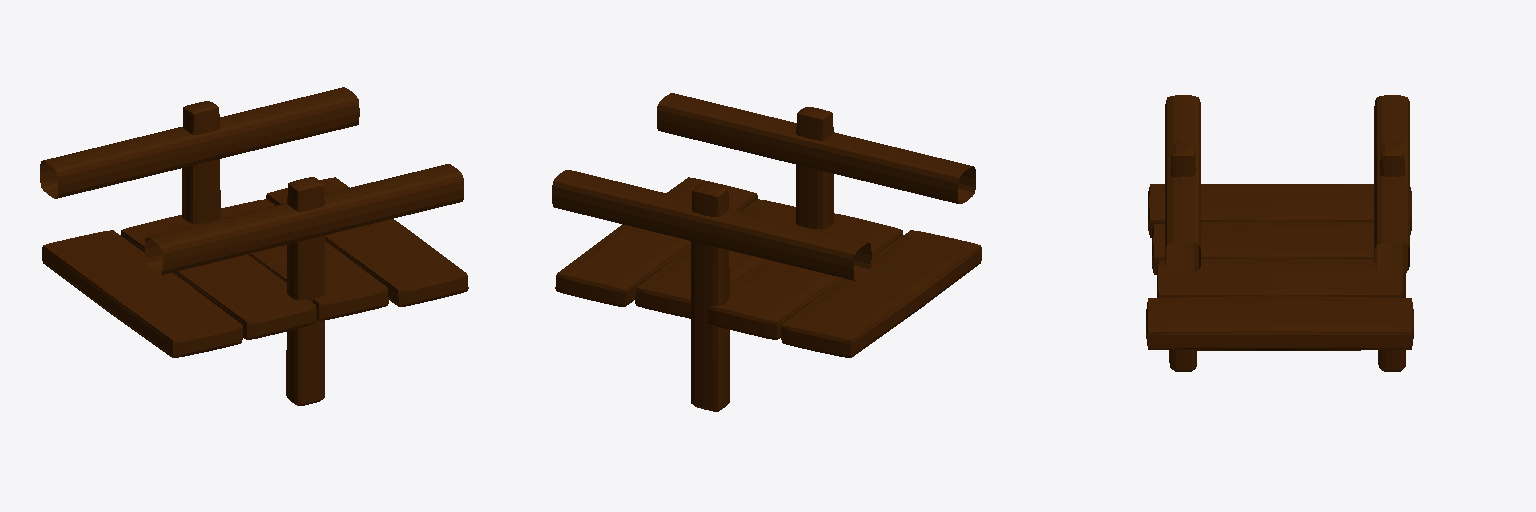
Rendered from Bridge_Modular_Center.obj.
3 views of the same model, side by side, from view 1: azimuth 30°, elevation 25°; view 2: azimuth 150°, elevation 25°; view 3: azimuth 270°, elevation 25° (orthographic).
Visible parts, largest first — view 1: Bridge_Modular_Center_Cube.054; view 2: Bridge_Modular_Center_Cube.054; view 3: Bridge_Modular_Center_Cube.054.
Boxes of the visible parts, x1=… form: Bridge_Modular_Center_Cube.054: x1=40, y1=87, x2=468, y2=405; Bridge_Modular_Center_Cube.054: x1=552, y1=93, x2=981, y2=411; Bridge_Modular_Center_Cube.054: x1=1146, y1=95, x2=1413, y2=371.
Size of the model in its own units: 3 by 2.09 by 2.31.